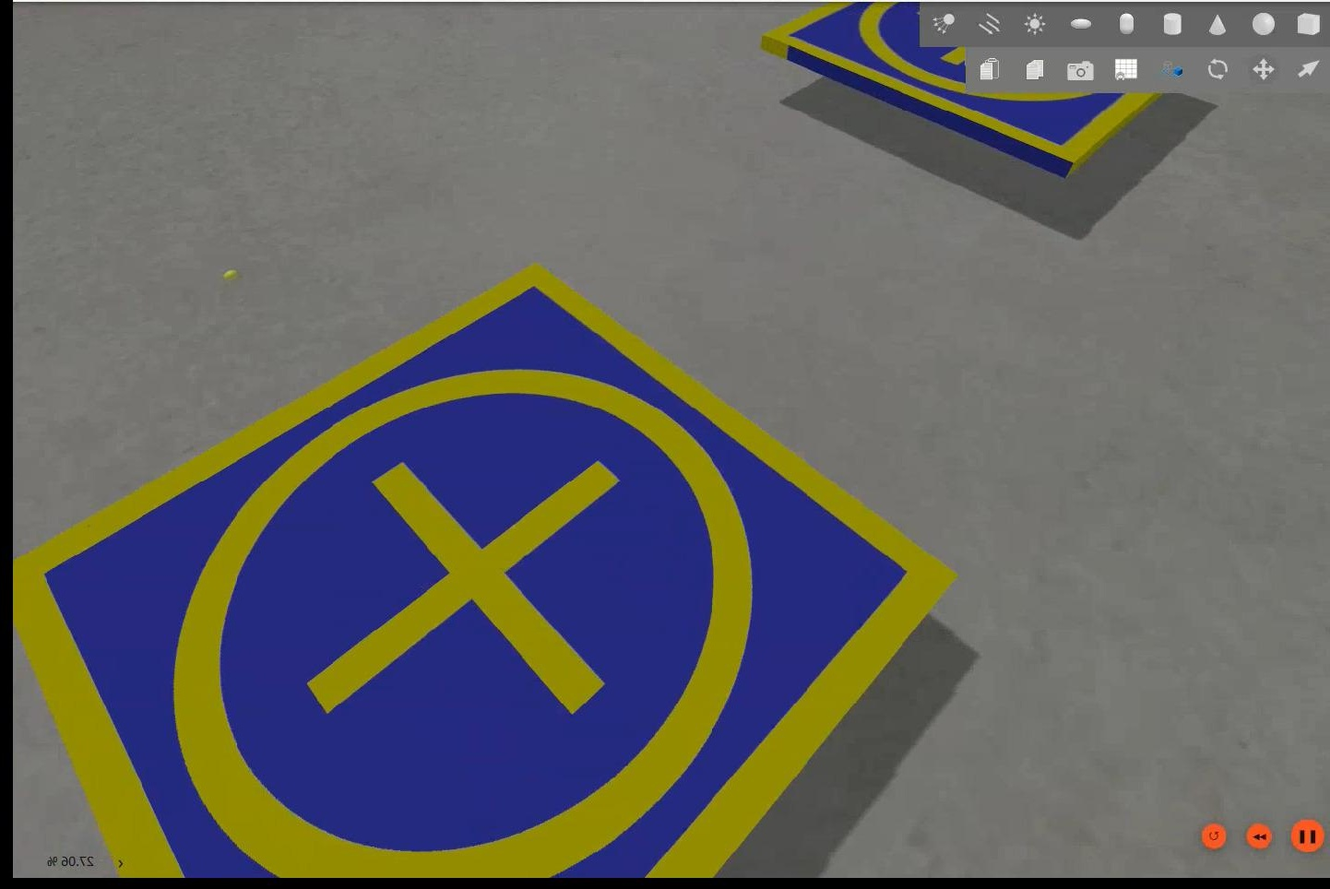small_base: (10, 260, 956, 880), (756, 1, 1164, 177)
